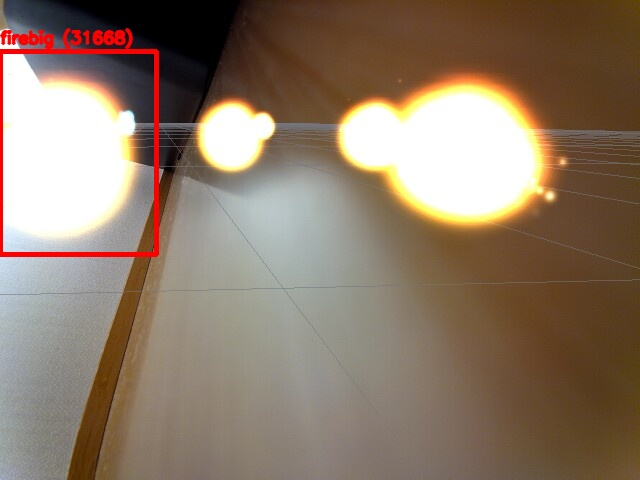firebig: (0, 51, 156, 254)
